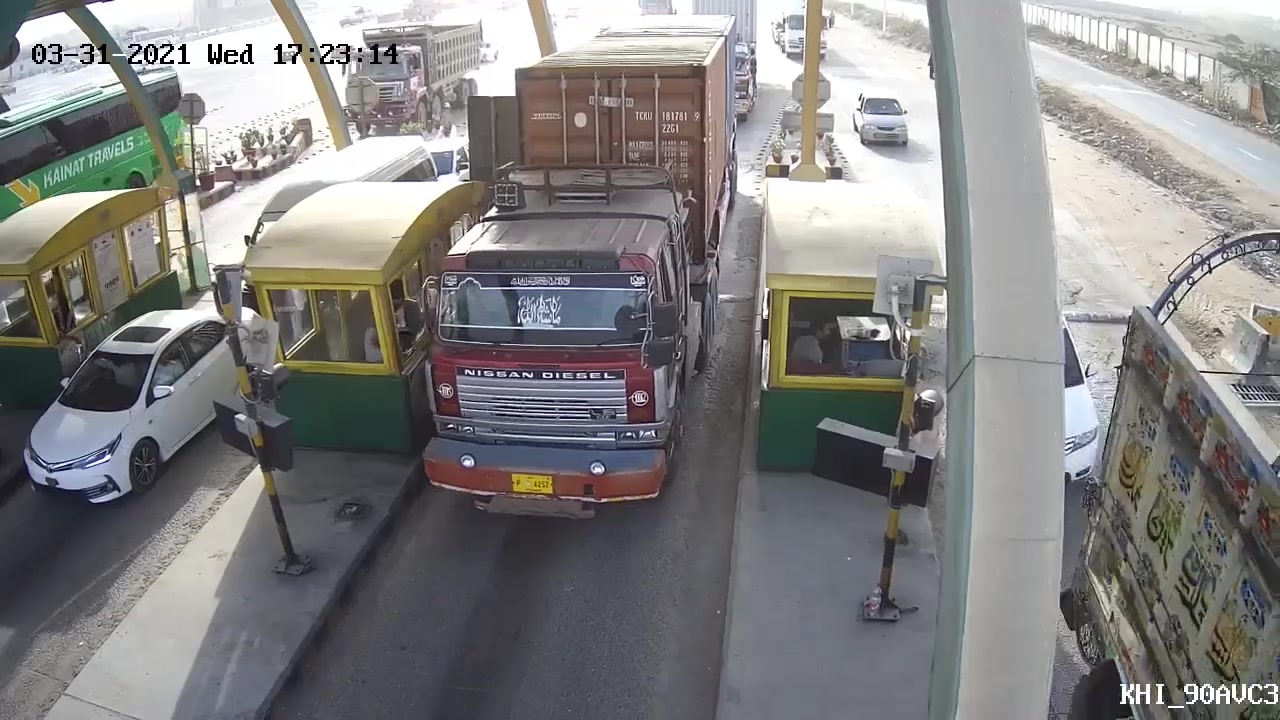F6: (407, 12, 748, 527)
